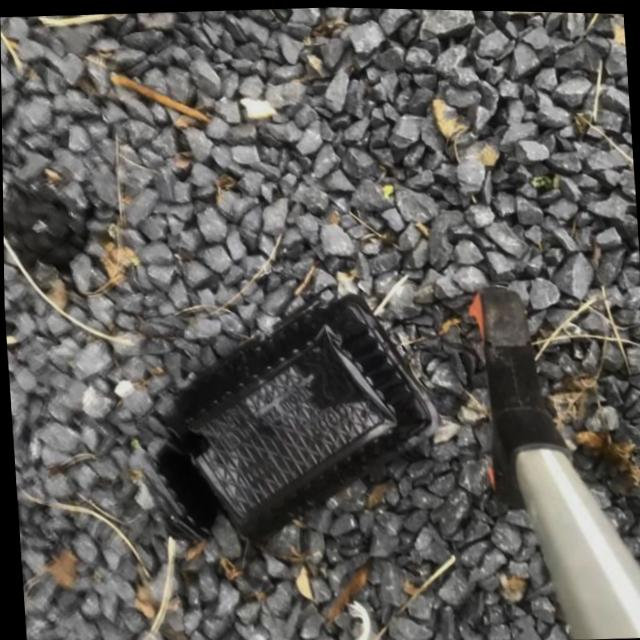Plastic: (125, 272, 451, 557)
